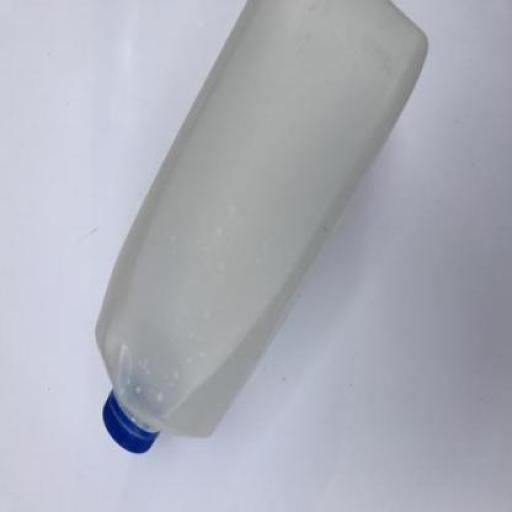plastic: (94, 2, 427, 455), (102, 388, 159, 456)
